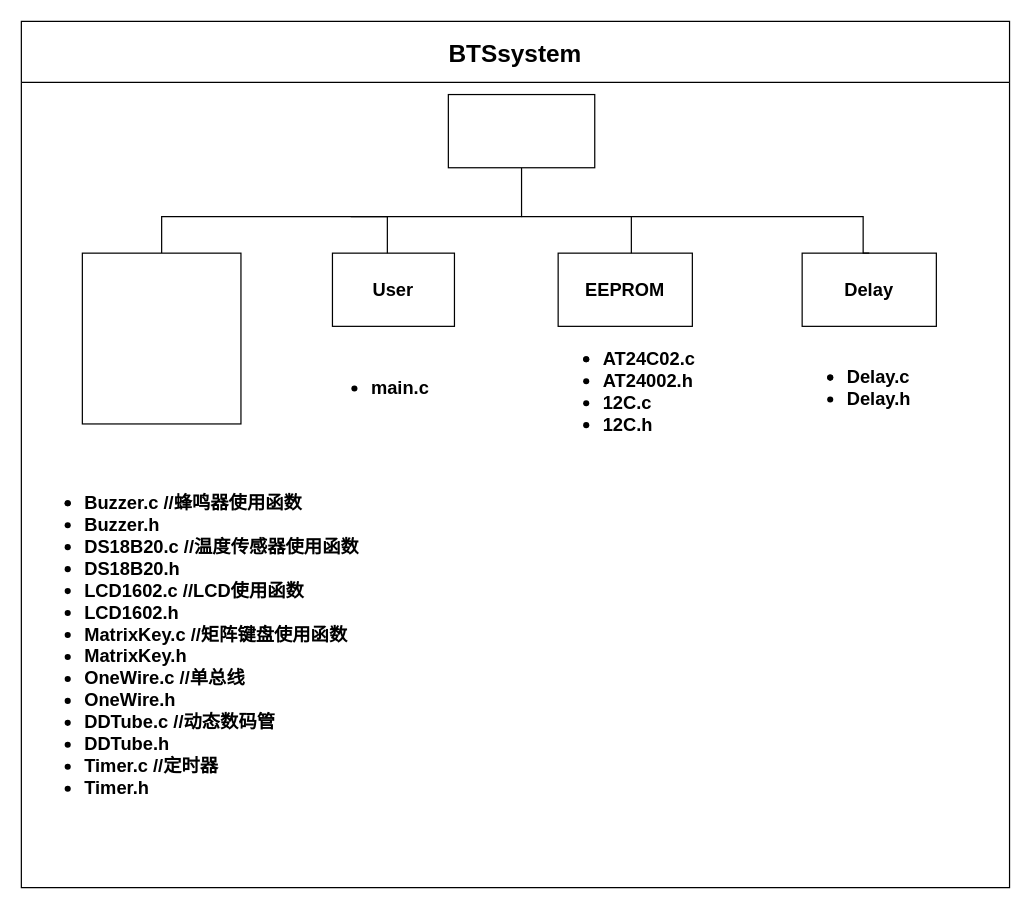
This 1031x909 diagram has some shape labels left out. The shapes that lost their labels are listed below. From the top down, each one's box as (x1, y1, x2, y2) in pixels, then its label:
(447, 93, 595, 168): BTS
(81, 252, 241, 424): HardWare
